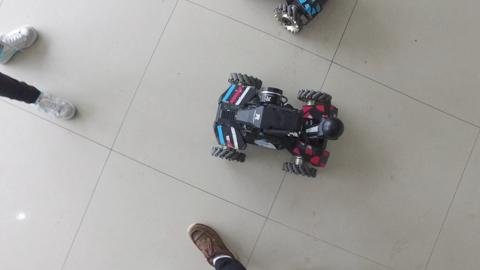chariot: (198, 68, 348, 189)
